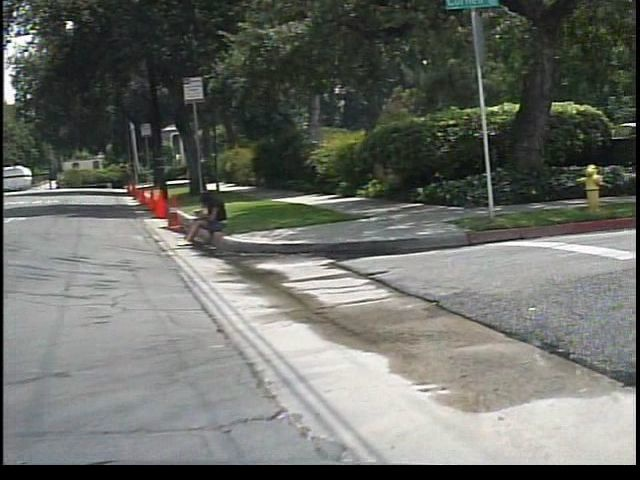person: (181, 189, 239, 247)
